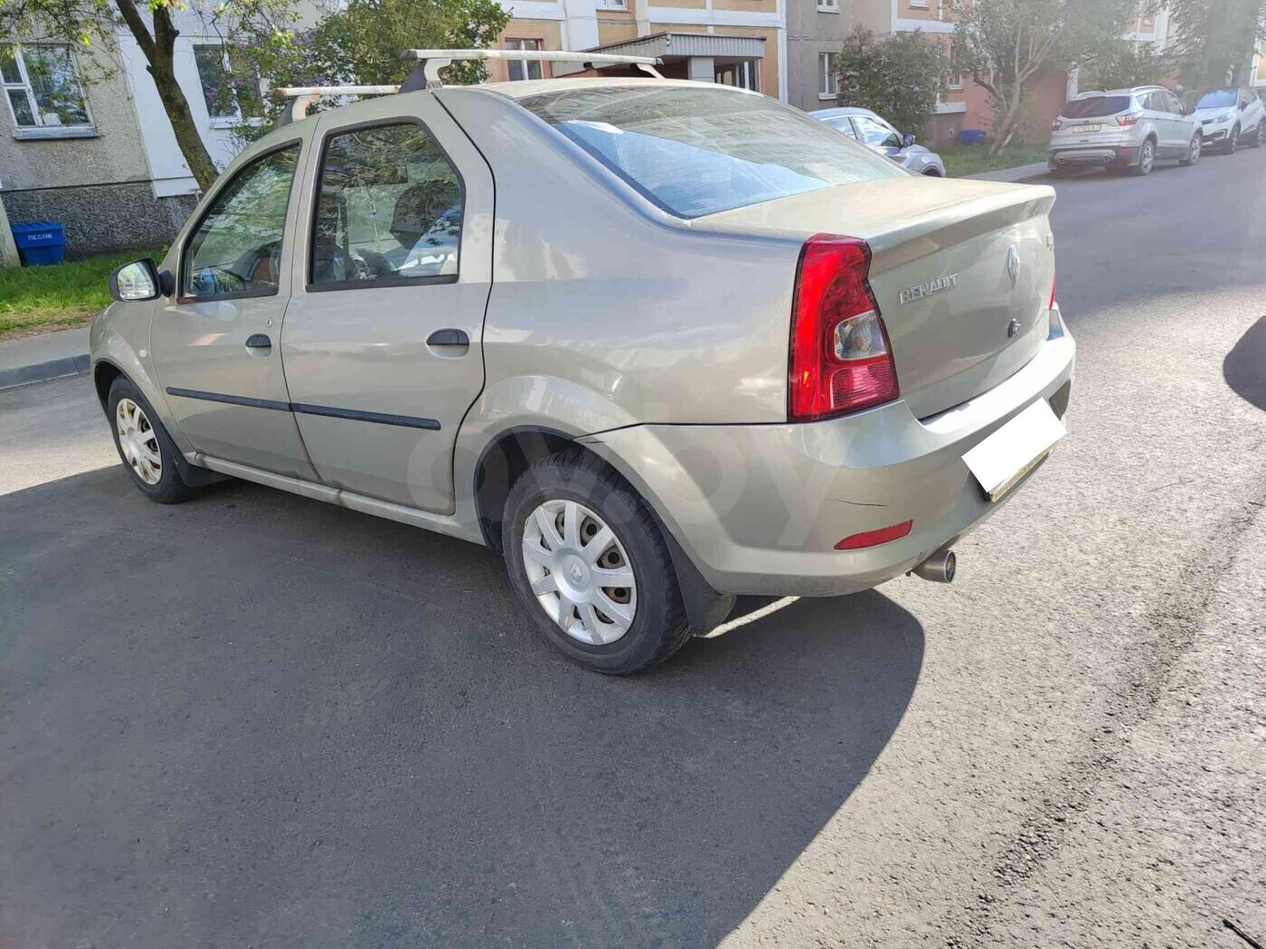Logan_2008-2015: (81, 76, 1089, 687)
